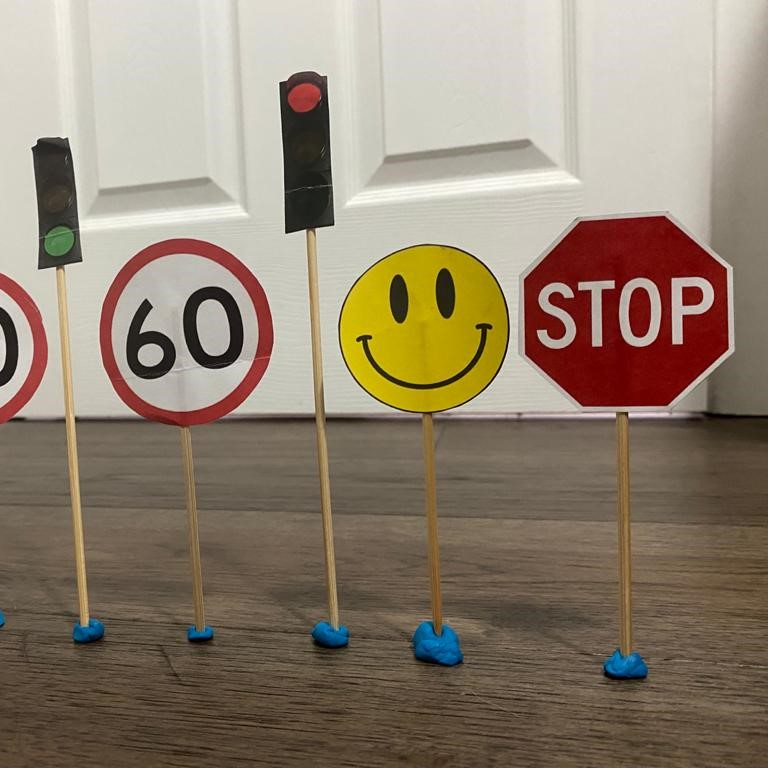Green Traffic Light: (29, 134, 87, 273)
Person: (338, 241, 510, 414)
Red Traffic Light: (274, 70, 339, 235)
Speed Limit 60: (98, 238, 274, 434)
Stop Sign: (516, 208, 738, 417)
